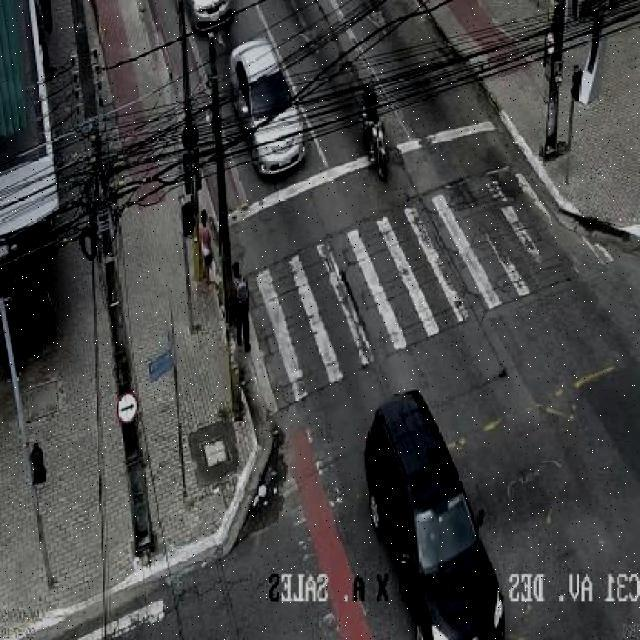Car: (360, 385, 510, 640), (227, 35, 308, 178), (185, 0, 235, 37)
Cycle: (358, 116, 392, 188)
